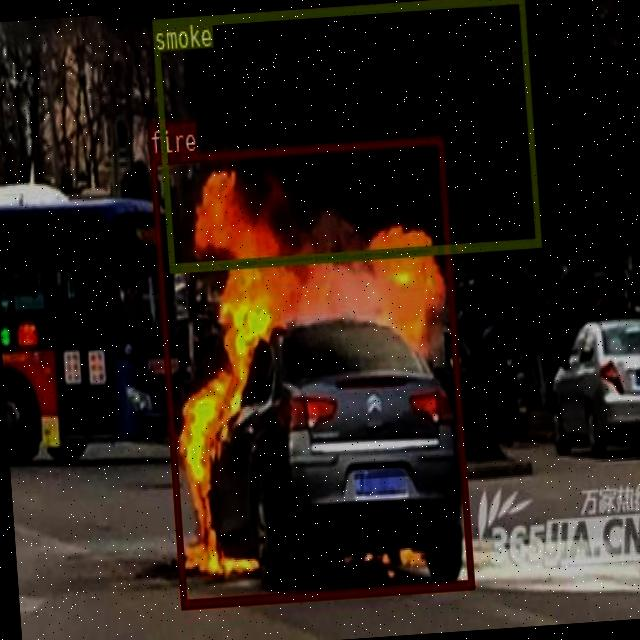fire: (149, 135, 473, 608)
smoke: (151, 0, 540, 271)
